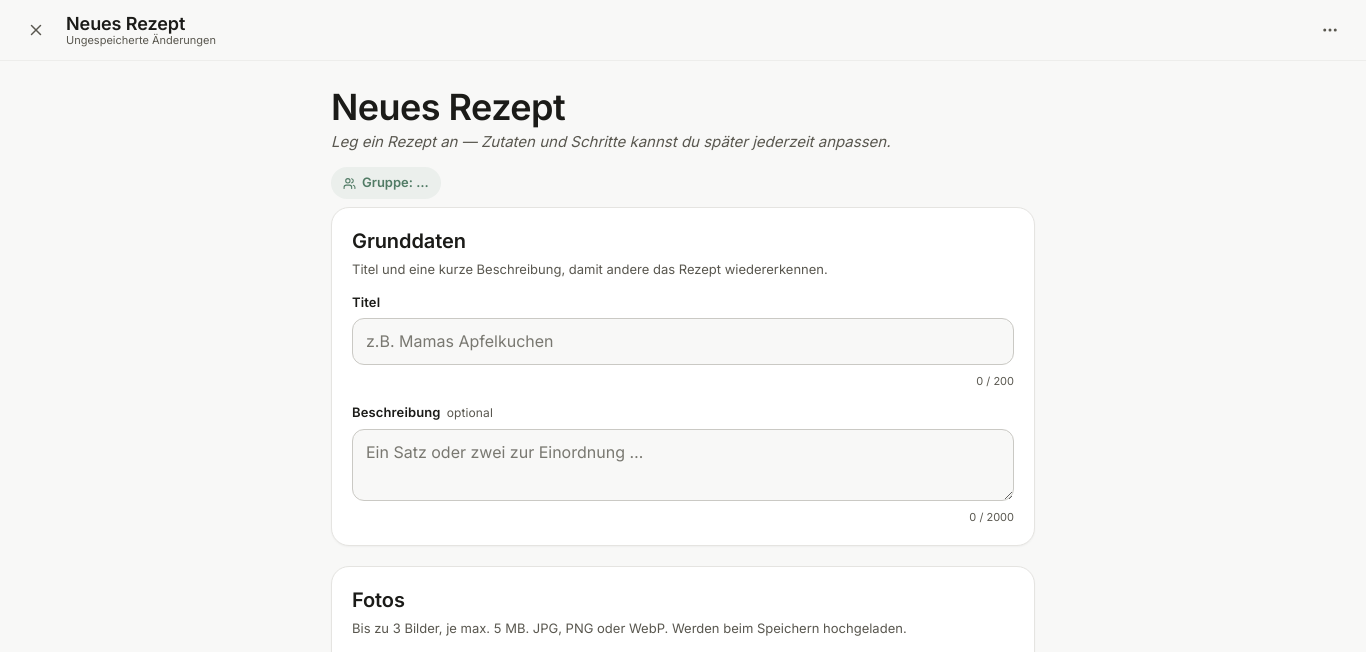
Test: RecipeFormPage (create) › updates the CharCounter live as the user types in the title
In the field labelled "Titel": {"x": 683, "y": 341} left=352, top=318, right=1014, bottom=364, type "Omas"
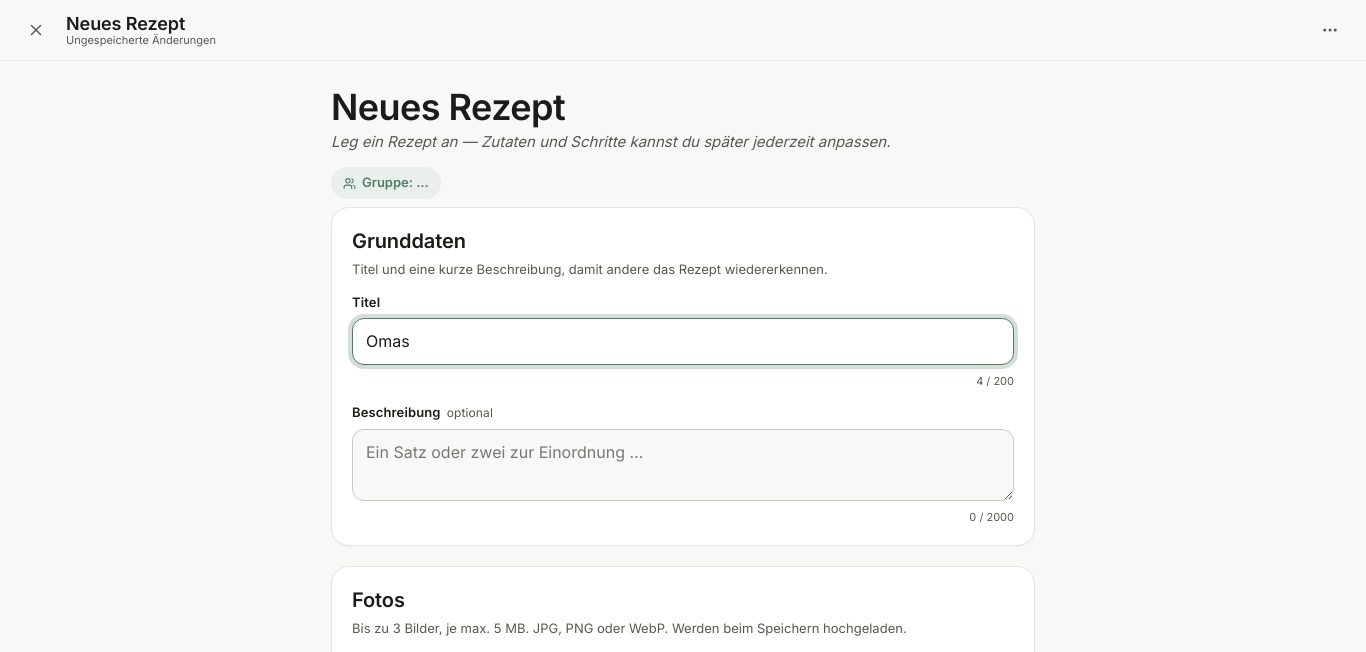
Check: the text "4 / 200" is shown, box left=976, top=374, right=1014, bottom=388
